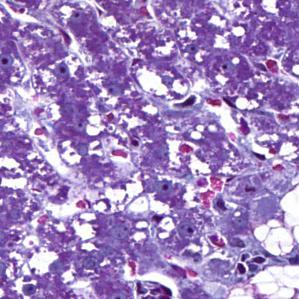ballooning: (248, 216, 296, 262), (241, 261, 296, 295)
